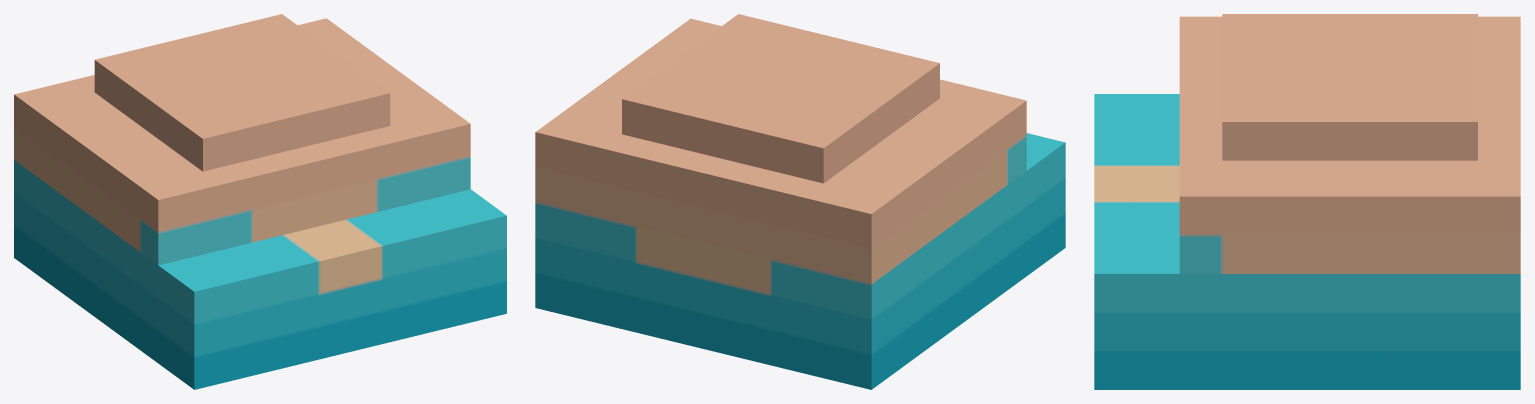
File: Chest071.fbx
3 views of the same model, side by side, from view 1: azimuth 30°, elevation 25°; view 2: azimuth 150°, elevation 25°; view 3: azimuth 270°, elevation 25° (orthographic). The views are drawn at different scales.
Parts seen in each view (by area): view 1: Chest071; view 2: Chest071; view 3: Chest071.
Boxes of the visible parts, x1=… form: Chest071: x1=14, y1=14, x2=506, y2=389; Chest071: x1=535, y1=14, x2=1065, y2=389; Chest071: x1=1094, y1=14, x2=1520, y2=389.
Size of the model in its own units: 10 by 6 by 10.
